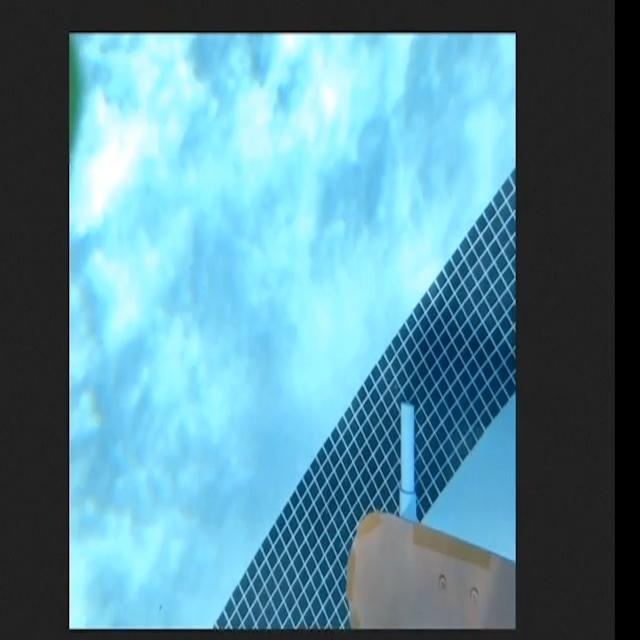Path: (346, 511, 517, 630)
